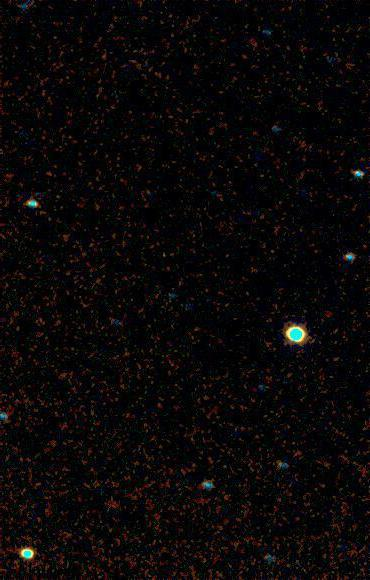star: (33, 157, 63, 187)
